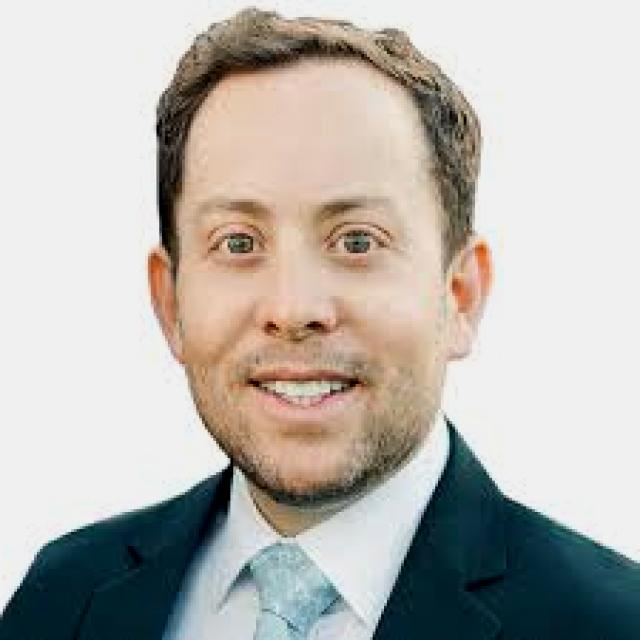normal_face: (113, 9, 519, 527)
